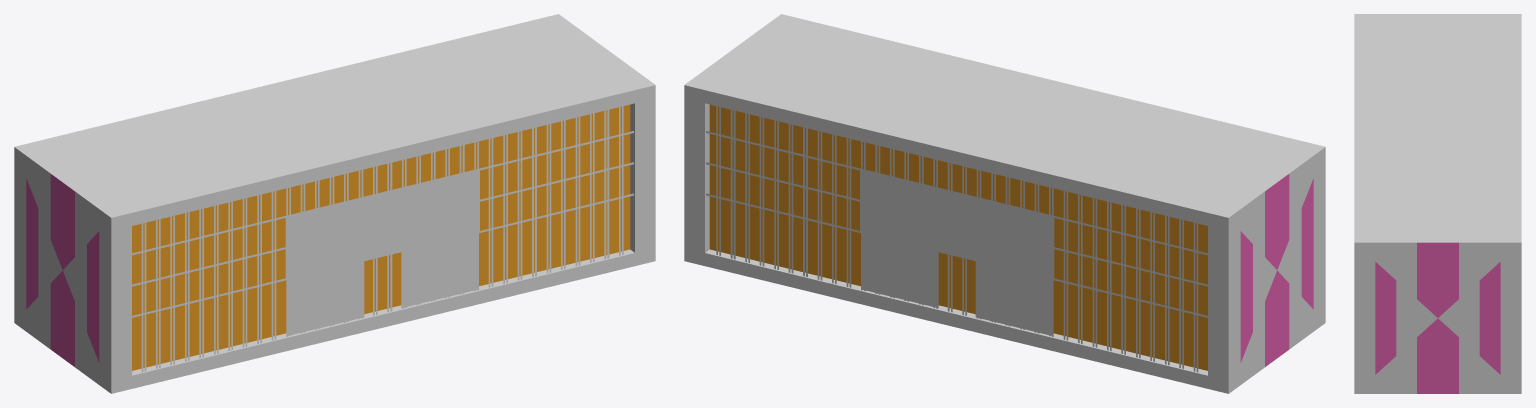
File: Buildings-base3v2-variant.fbx
3 renders of one model, left to right at view 1: azimuth 30°, elevation 25°; view 2: azimuth 150°, elevation 25°; view 3: azimuth 270°, elevation 25°, orthographic. The views are drawn at different scales.
Visible parts, largest first — view 1: BuildingBase3; view 2: BuildingBase3; view 3: BuildingBase3.
Part boxes in pixels (left/top/right/bottom): BuildingBase3: left=14, top=14, right=655, bottom=393; BuildingBase3: left=684, top=14, right=1325, bottom=393; BuildingBase3: left=1354, top=14, right=1521, bottom=393.
Size of the model in its own units: 162 by 50 by 50.
